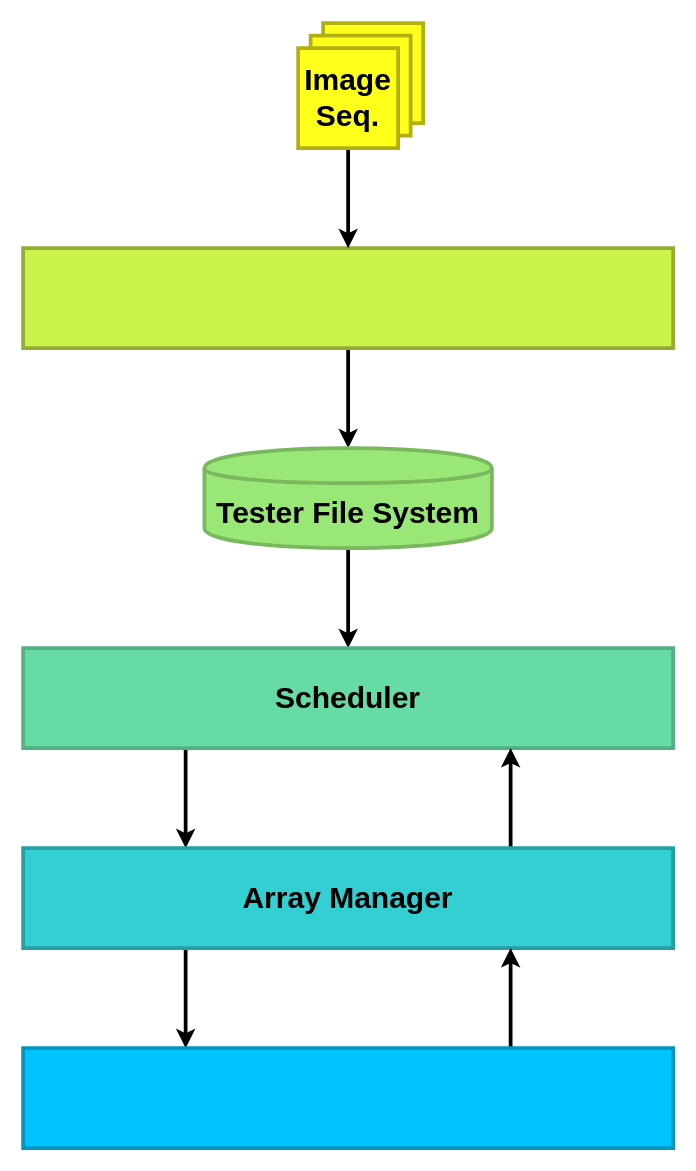
The diagram is 696 pixels wide and 1171 high, and some of its shapes have lost their labels. The centre of each missing label's shape, as x and y in pixels:
RRAM Crossbar Array: point 347,1097
snet.PoissonLayer: point 347,297
